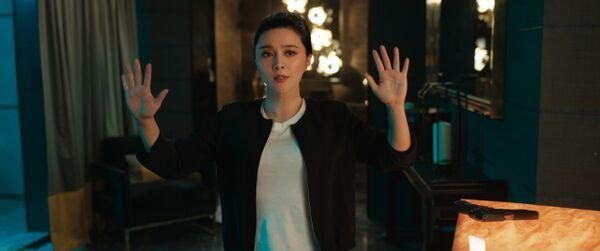Gun: (453, 199, 541, 223)
